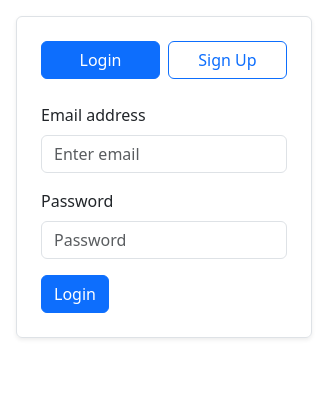
Test: AuthForm Component › displays error message on failed login
Type "test@example.com" into the field with placeholder "Enter email".
click(164, 154); type("test@example.com")  # box [41,135,287,173]
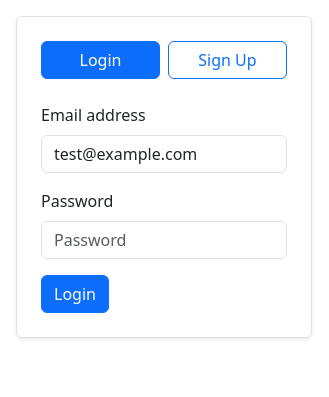
Type "wrongpassword" into the password field with placeholder "Password".
click(164, 240); type("wrongpassword")  # box [41,221,287,259]
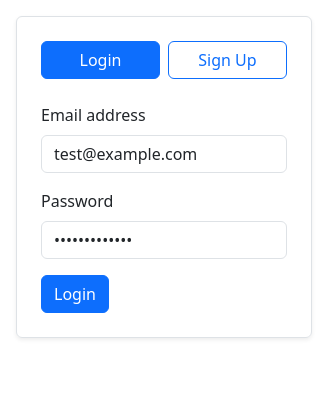
Submit the form from the button with aria-label "Submit Login Form", box [41,275,109,313]
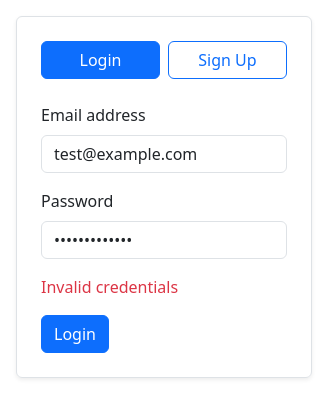
Expected: the text "Invalid credentials" is shown, [41,276,178,298]
